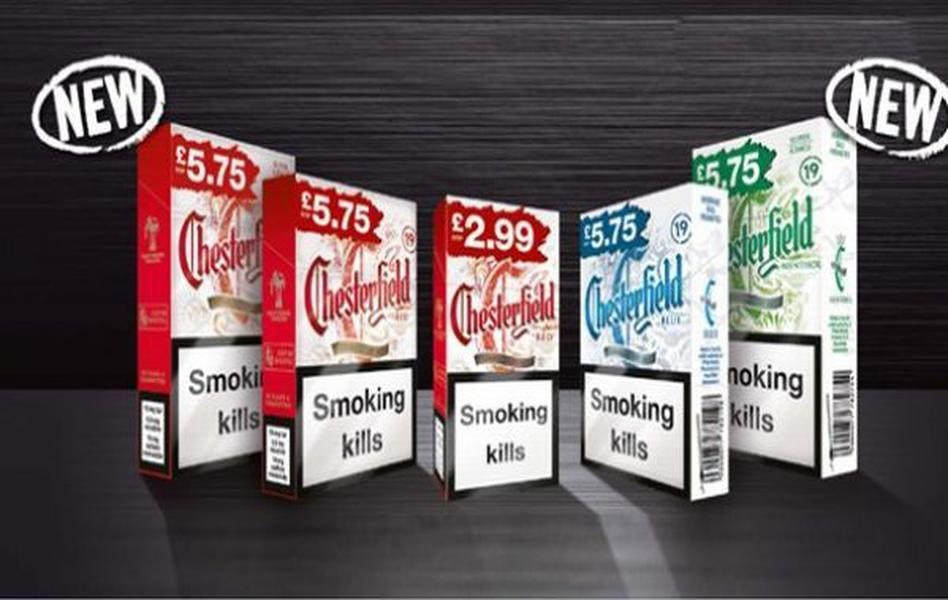chesterfield_blue: (577, 207, 691, 471)
chesterfield_red: (295, 202, 415, 467), (451, 214, 559, 482), (175, 134, 262, 456)
